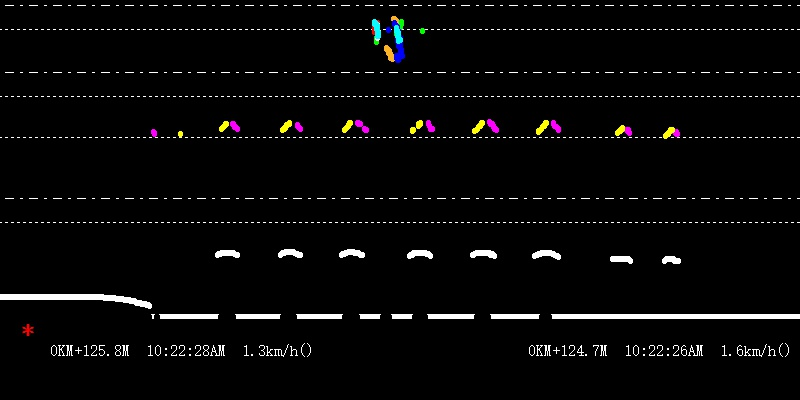J: (371, 2, 405, 62)
star: (19, 318, 35, 337)
y_p: (206, 108, 572, 266)
